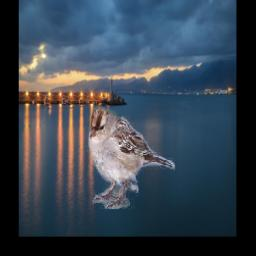Sparrow: (85, 107, 175, 210)
